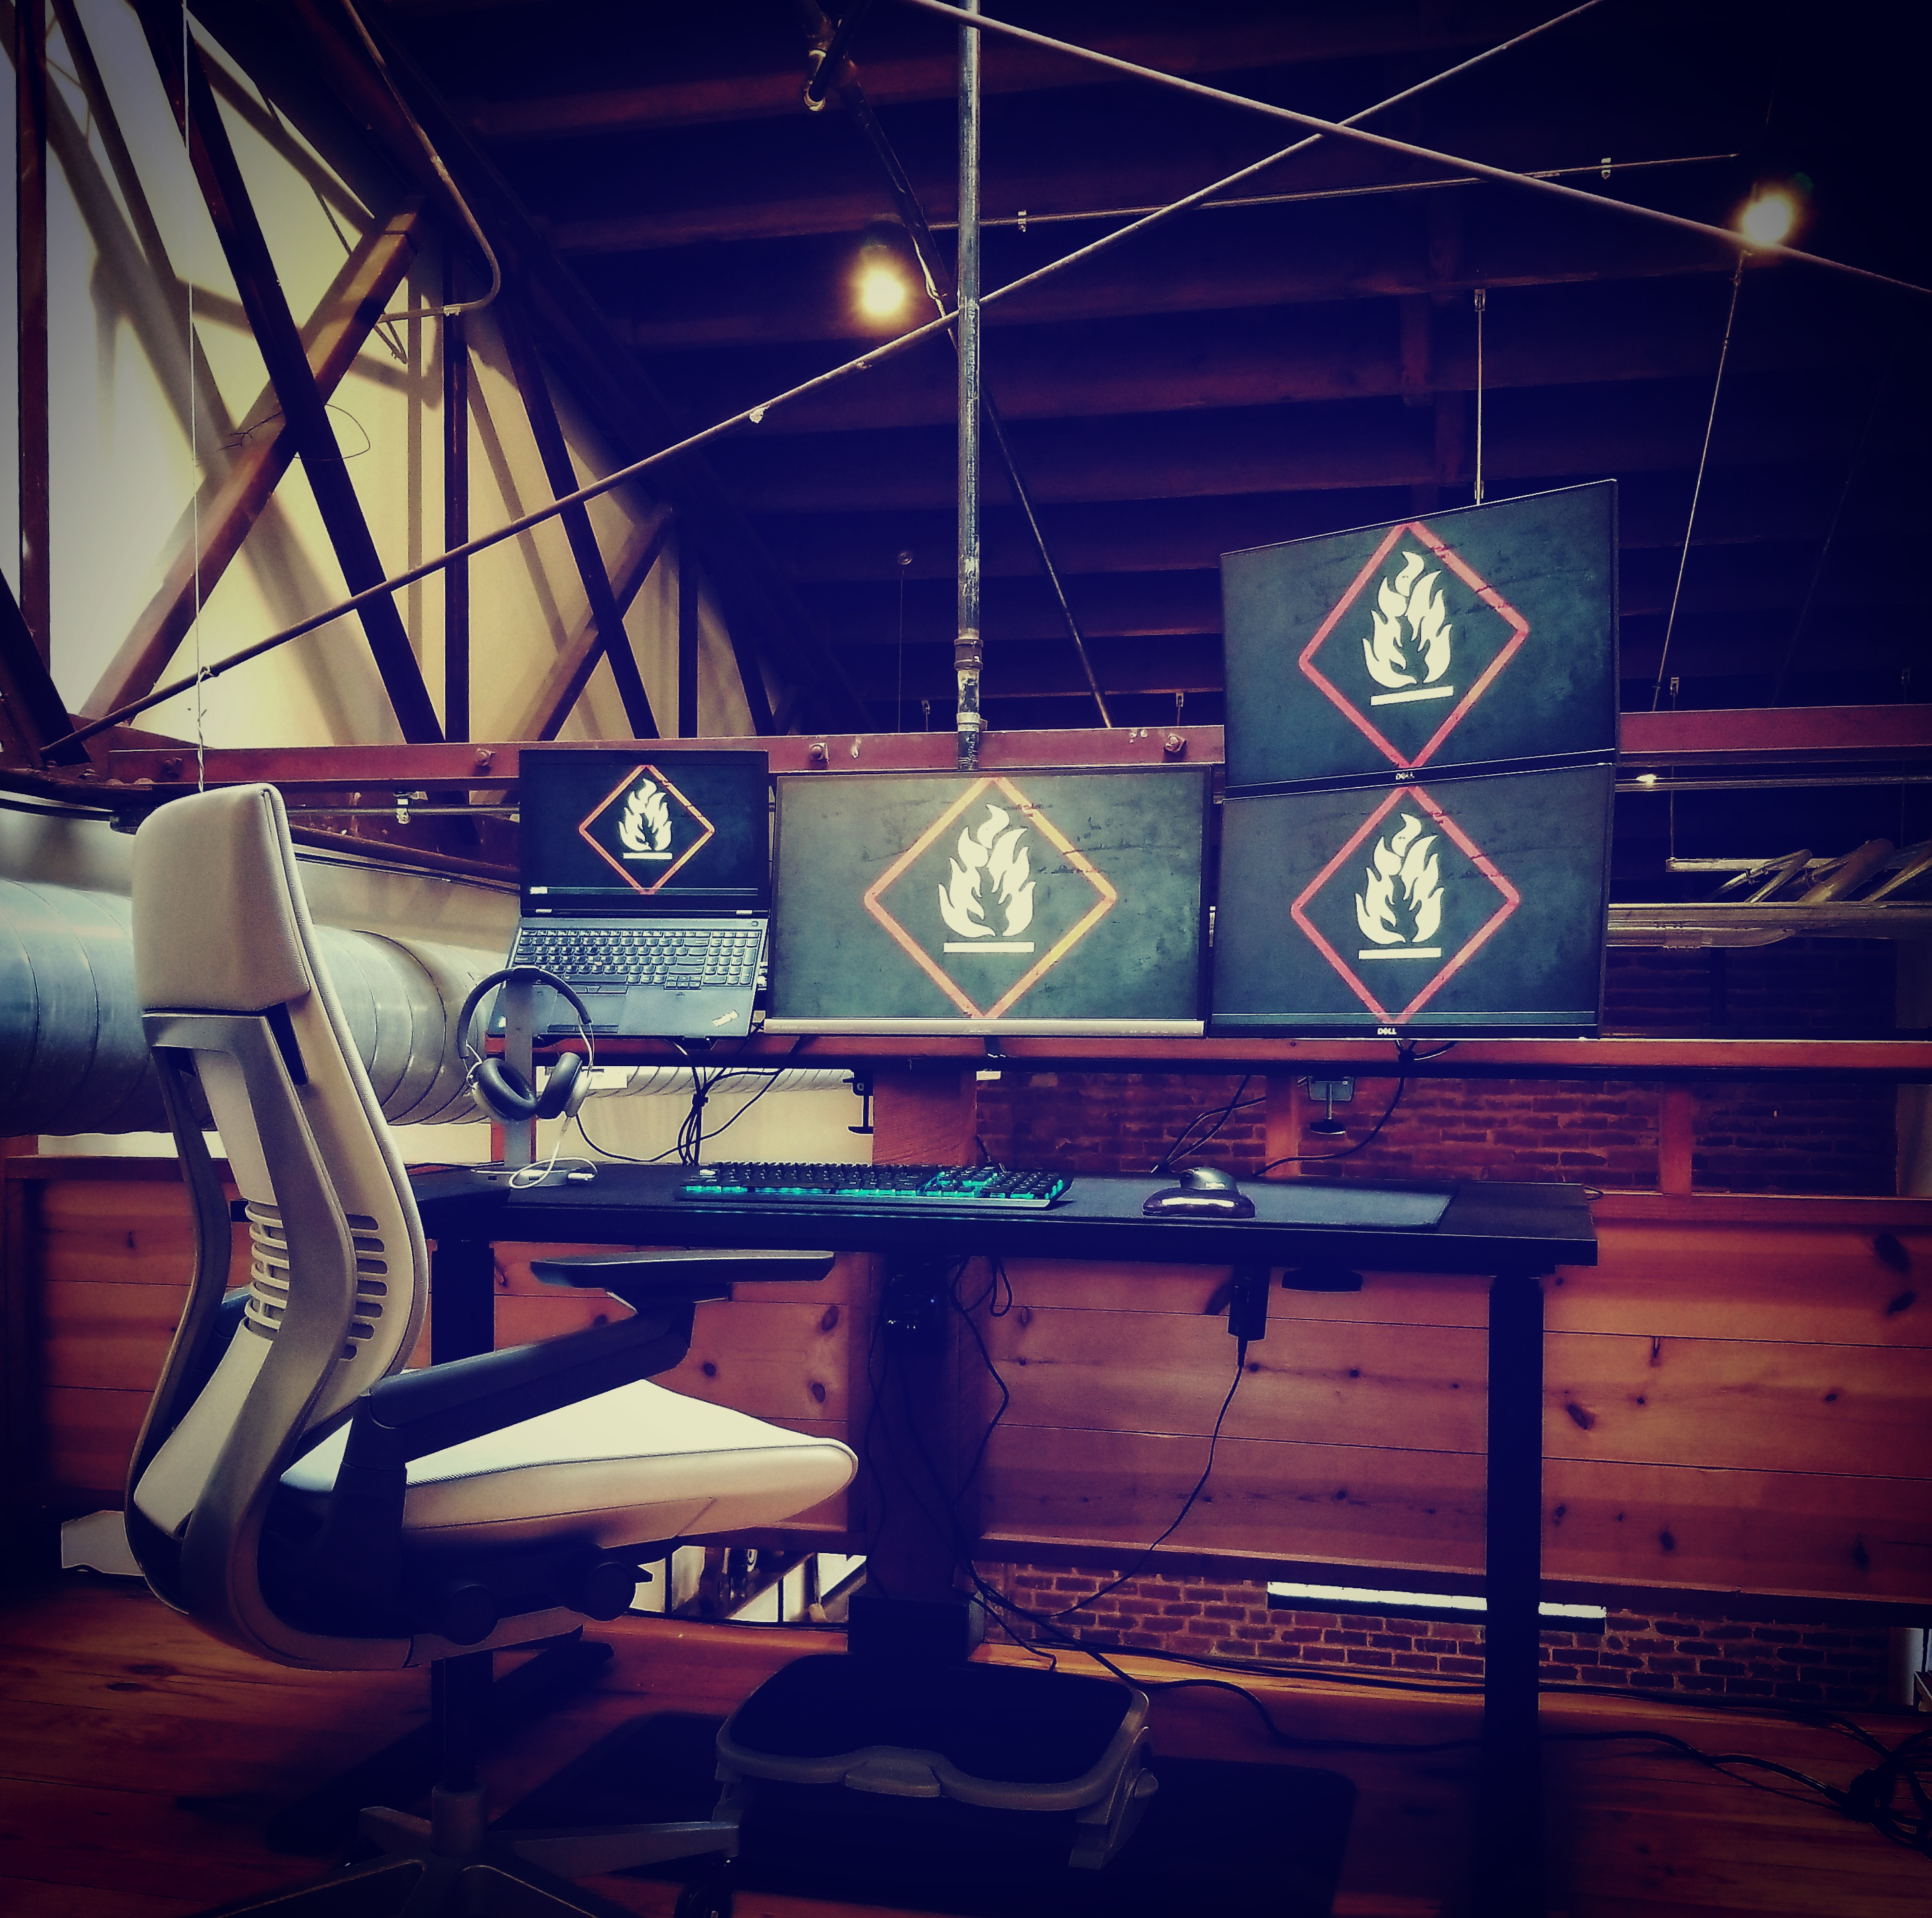Chair (Gaming): (116, 773, 861, 1918)
Desk (Generic): (299, 1142, 1607, 1902)
Footrest: (699, 1648, 1180, 1862)
Headphones: (453, 966, 599, 1124)
Keyboard (Gaming): (671, 1159, 1071, 1212)
Laptop (Generic): (487, 745, 775, 1043)
Monitor (Landscape): (1217, 478, 1628, 789), (768, 768, 1212, 1042), (1210, 764, 1614, 1049)
Monitor (Laptop): (523, 743, 757, 917)
Mouse (Generic): (1180, 1166, 1238, 1194)
Mousepad (Gaming): (515, 1156, 1454, 1237)
